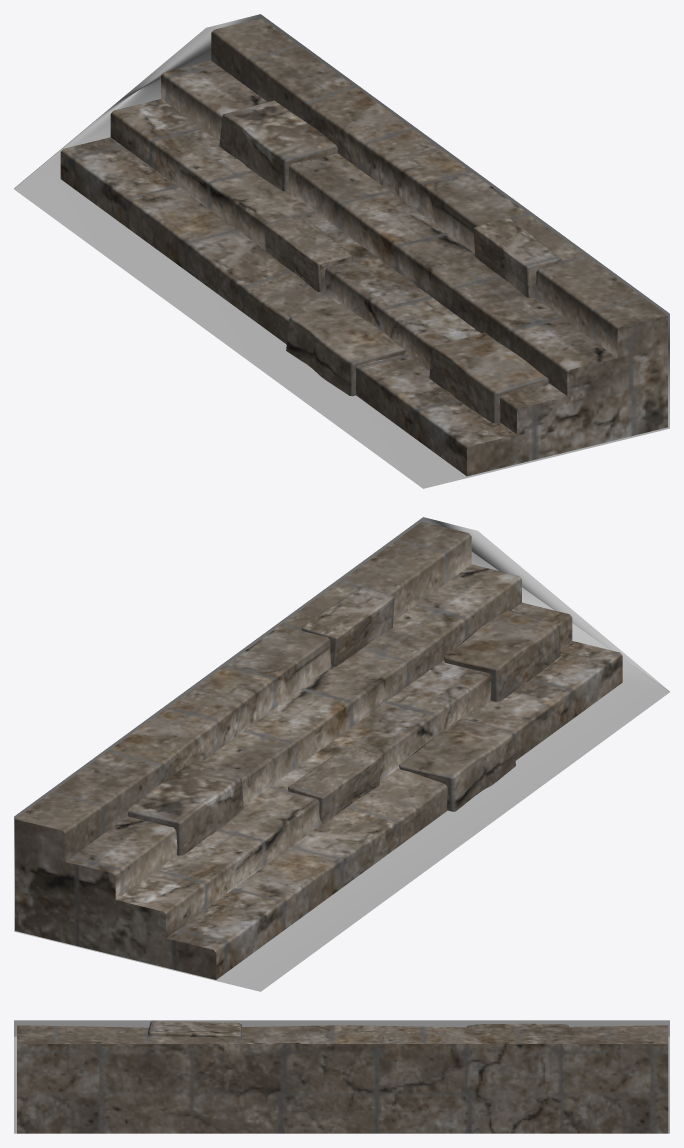
File: SM_Staircase_01a.gltf
3 views of the same model, one above another, from view 1: azimuth 30°, elevation 25°; view 2: azimuth 150°, elevation 25°; view 3: azimuth 270°, elevation 25° (orthographic). The views are drawn at different scales.
Visible parts, largest first — view 1: SM_Staircase_01a, SM_Staircase_01a_ConvexHulls; view 2: SM_Staircase_01a, SM_Staircase_01a_ConvexHulls; view 3: SM_Staircase_01a, SM_Staircase_01a_ConvexHulls.
Part boxes in pixels (box(x1,y1,x2,y2)): SM_Staircase_01a: box(60, 18, 667, 476); SM_Staircase_01a_ConvexHulls: box(14, 14, 669, 488); SM_Staircase_01a: box(15, 521, 622, 979); SM_Staircase_01a_ConvexHulls: box(14, 517, 669, 991); SM_Staircase_01a: box(17, 1020, 668, 1133); SM_Staircase_01a_ConvexHulls: box(14, 1020, 669, 1133).
Size of the model in its own units: 2.45 by 1.12 by 7.05.
2 materials, 1 textured.
